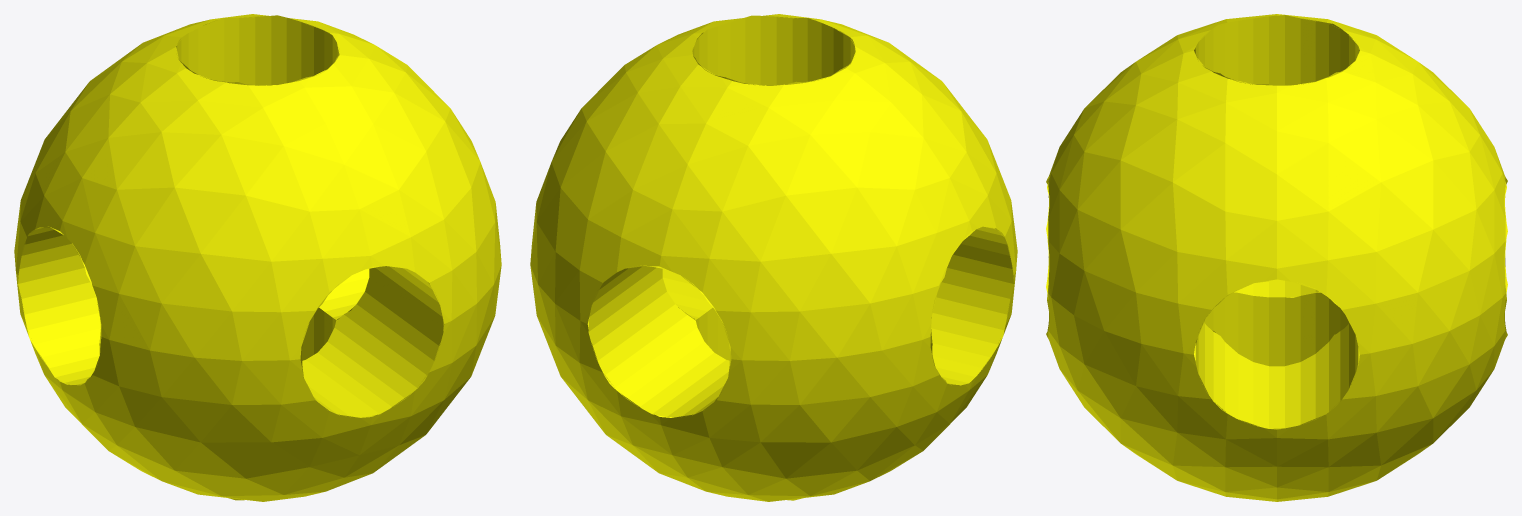
Rendered from SM_Adrenaline.FBX.
3 views of the same model, side by side, from view 1: azimuth 30°, elevation 25°; view 2: azimuth 150°, elevation 25°; view 3: azimuth 270°, elevation 25° (orthographic).
Visible parts, largest first — view 1: SM_Adrenaline; view 2: SM_Adrenaline; view 3: SM_Adrenaline.
Part boxes in pixels (<box>): SM_Adrenaline: <box>14,14,501,501</box>; SM_Adrenaline: <box>530,14,1017,501</box>; SM_Adrenaline: <box>1046,14,1507,501</box>.
Size of the model in its own units: 56.74 by 56.74 by 56.74.
